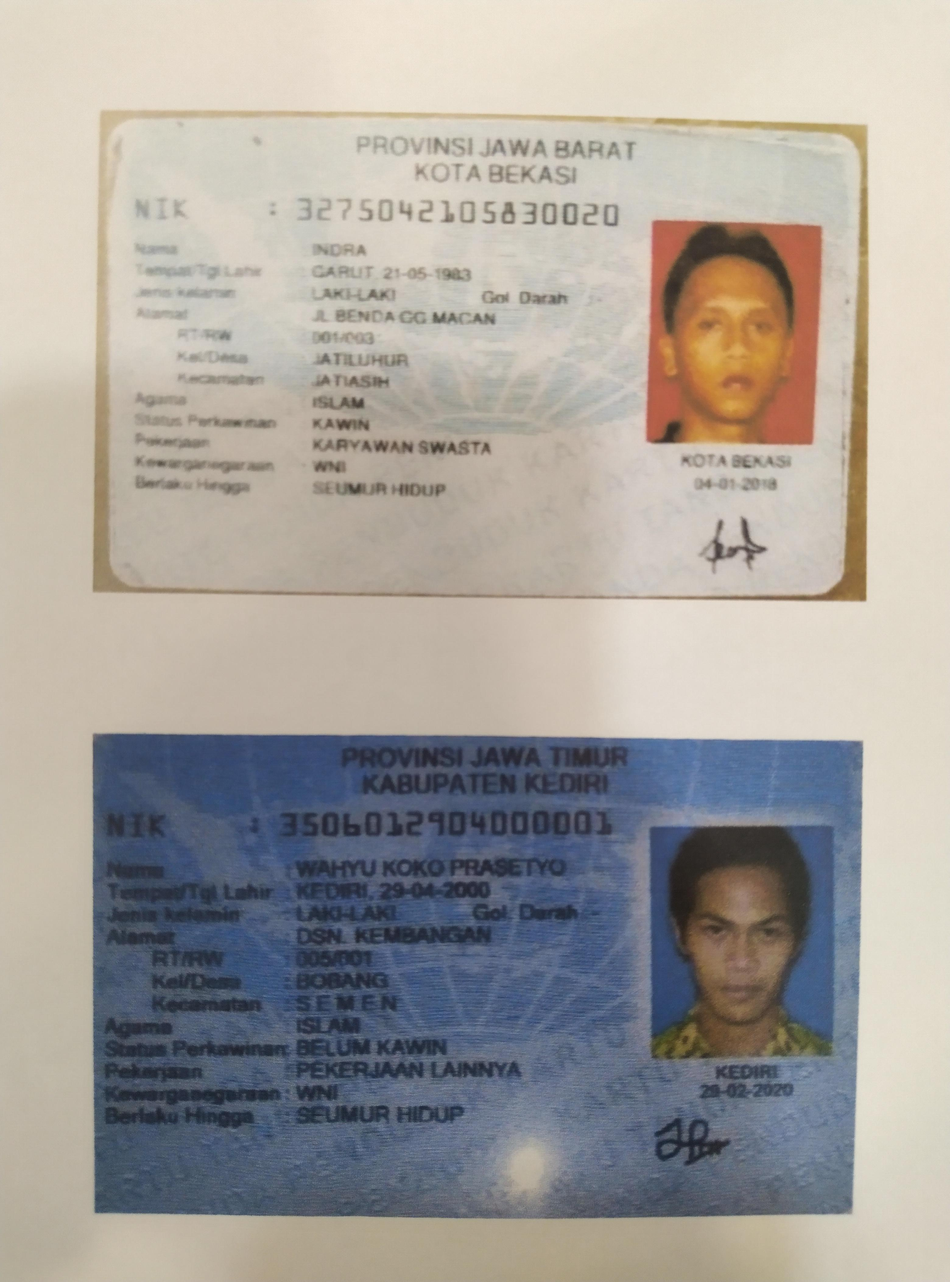ktp: (92, 733, 850, 1207), (109, 106, 841, 574)
